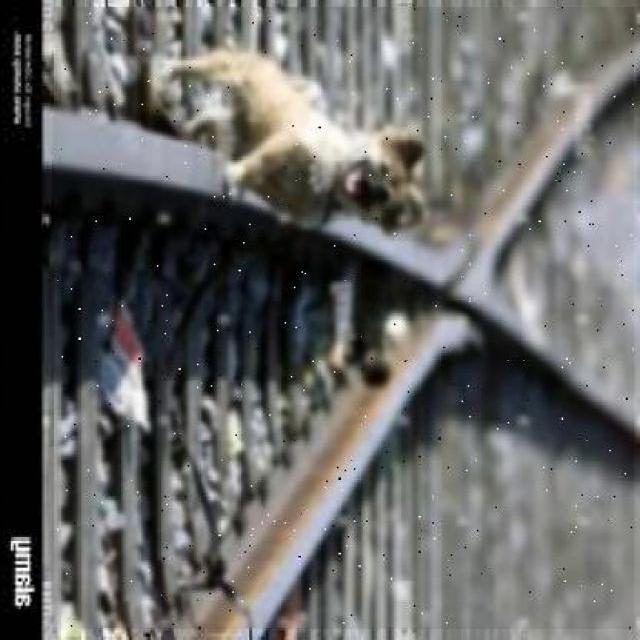rail: (53, 9, 635, 631)
